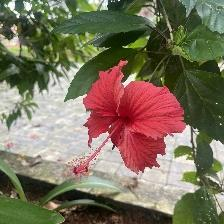hibiscus: (71, 60, 188, 186)
